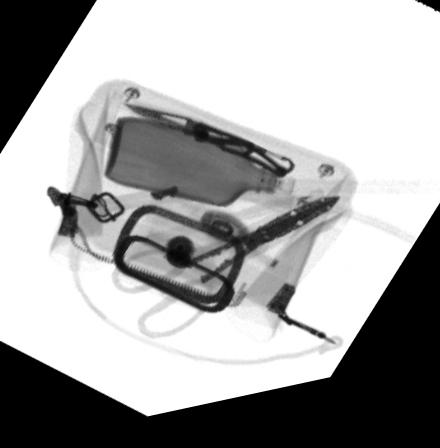Knife: (120, 108, 293, 191)
Scissors: (111, 210, 340, 346)
